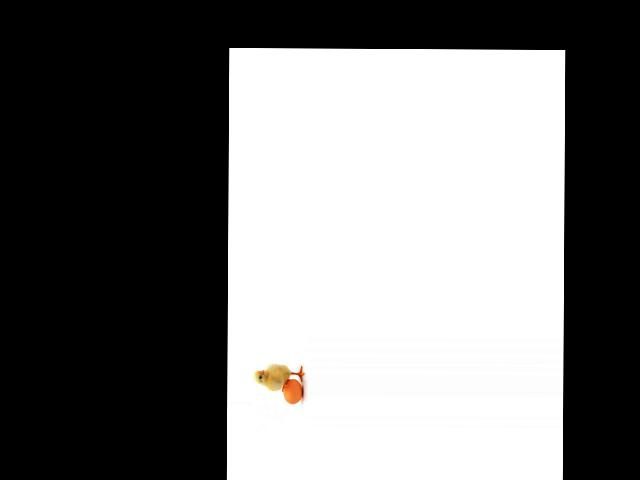egg: (282, 378, 302, 404)
